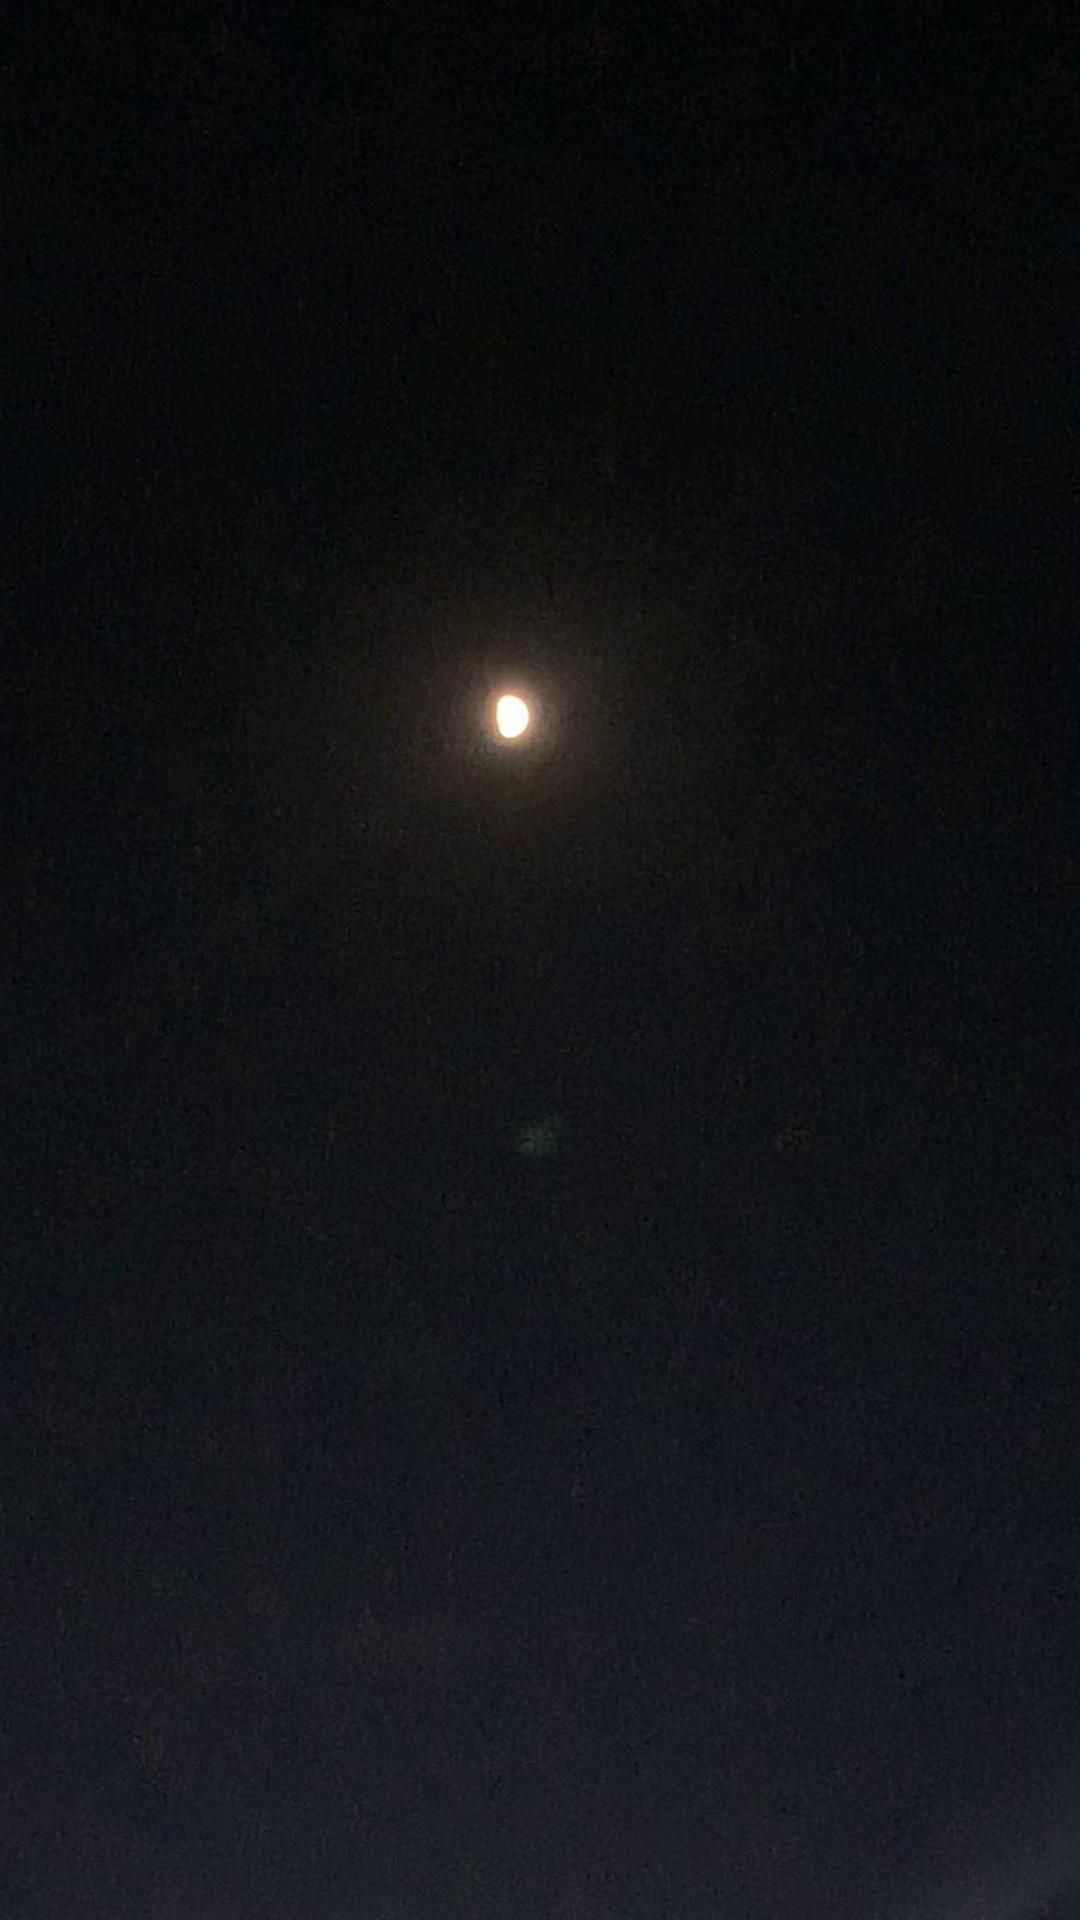moon: (484, 702, 554, 771)
